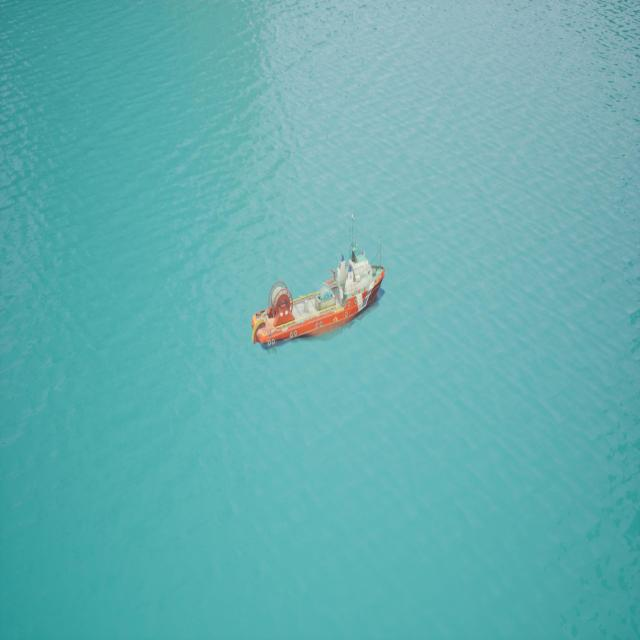tug boat: (236, 217, 415, 381)
